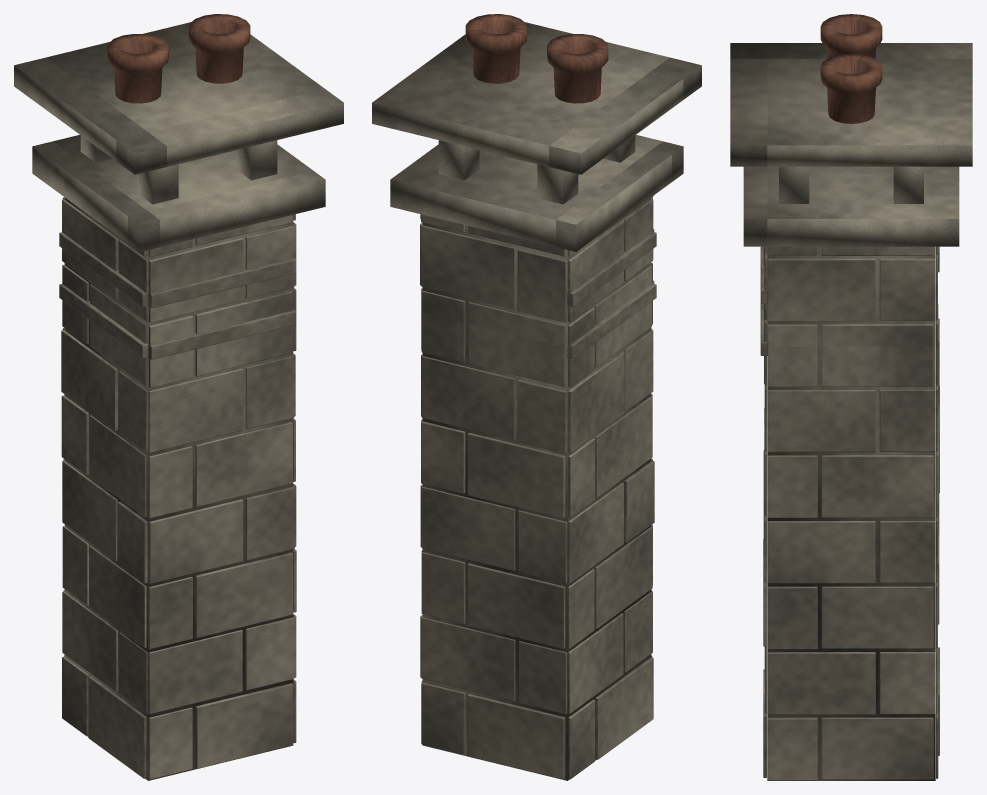
File: Chimney.gltf
3 renders of one model, left to right at view 1: azimuth 30°, elevation 25°; view 2: azimuth 150°, elevation 25°; view 3: azimuth 270°, elevation 25°, orthographic.
Parts seen in each view (by area): view 1: Chimney; view 2: Chimney; view 3: Chimney.
Boxes of the visible parts, x1=… form: Chimney: x1=14, y1=14, x2=343, y2=780; Chimney: x1=372, y1=14, x2=701, y2=780; Chimney: x1=730, y1=14, x2=972, y2=780.
Size of the model in its own units: 0.72 by 2.29 by 0.72.
Materials: 6 (5 with a texture image).
